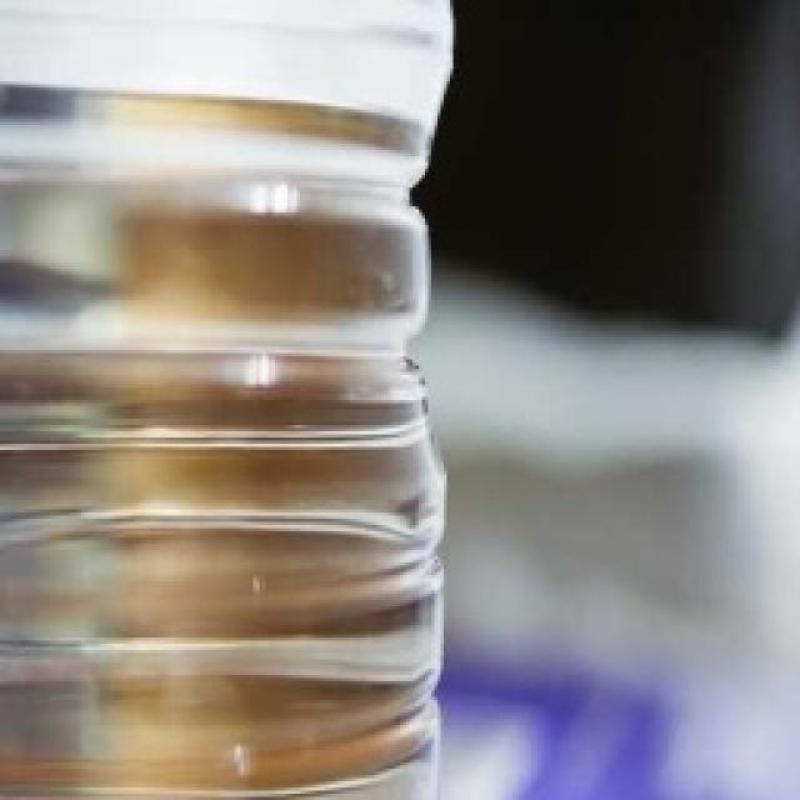botella: (0, 0, 456, 800)
